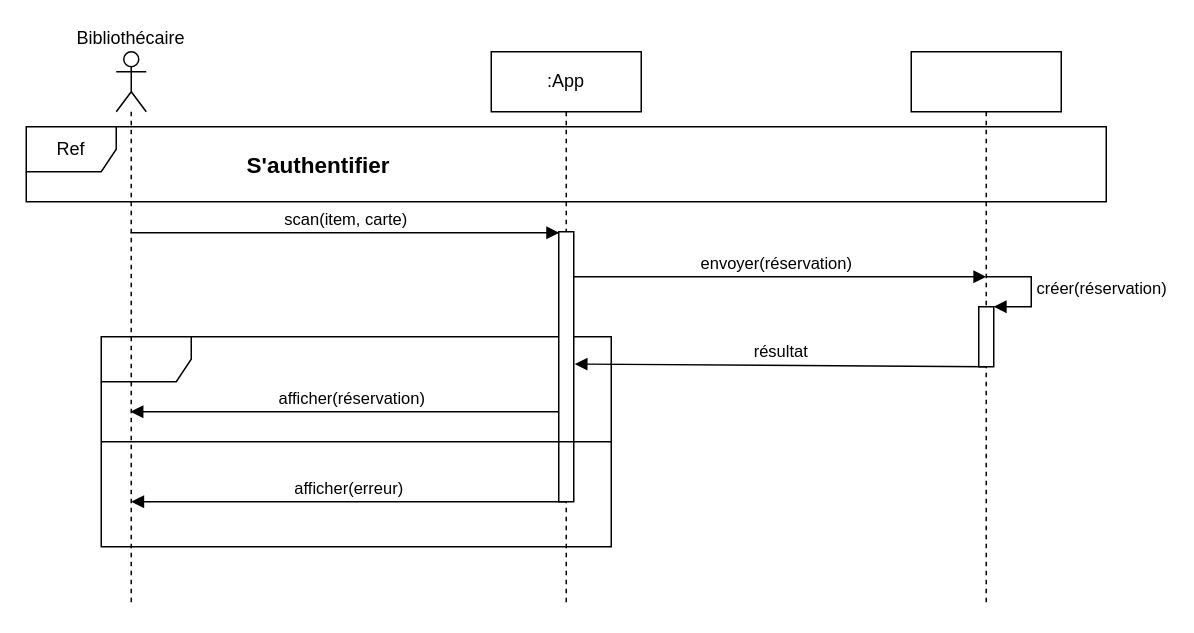
The diagram is 1194 pixels wide and 633 high, and some of its shapes have lost their labels. Here are the shapes that lost their labels. From the top down, the centre of each, then its label:
[985,328]: :DataBase
[355,441]: Alt
